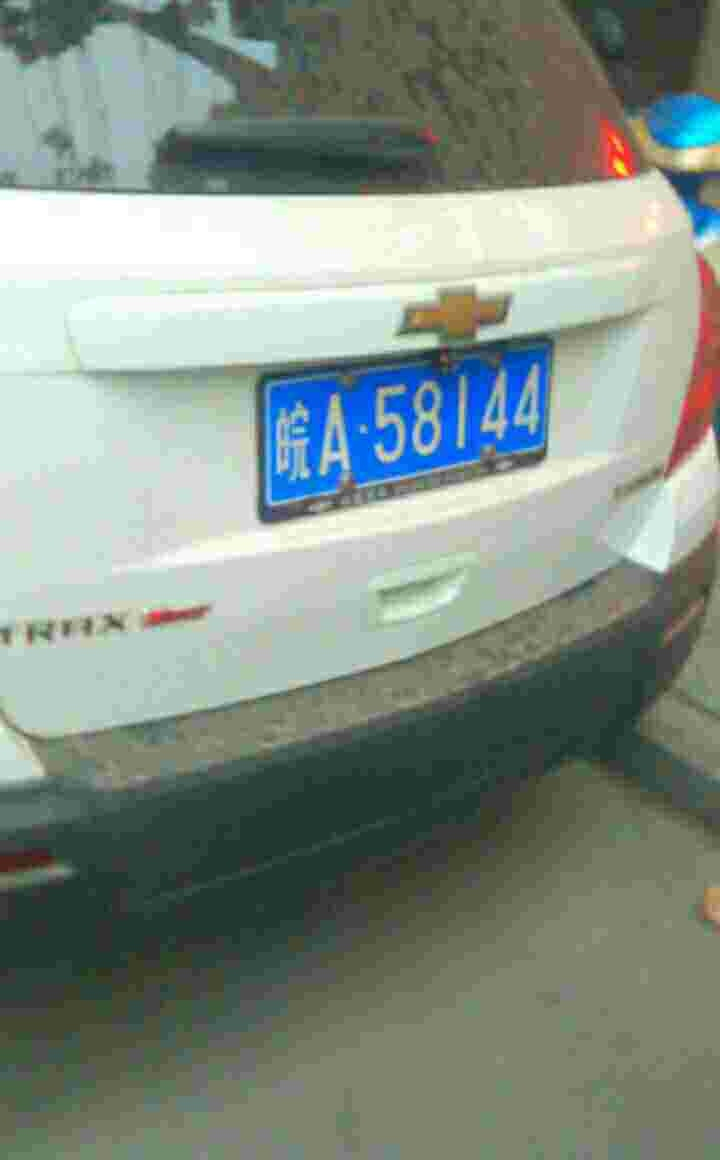license_plate: (262, 344, 541, 498)
